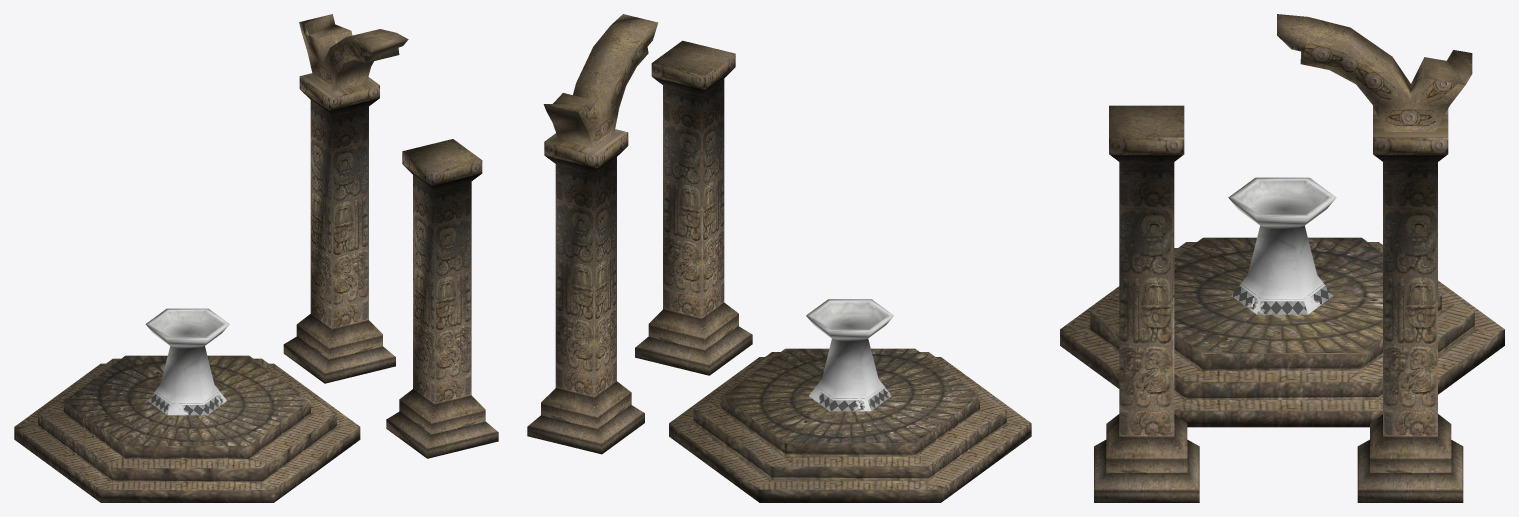
The model's file is ruin.obj.
3 views of the same model, side by side, from view 1: azimuth 30°, elevation 25°; view 2: azimuth 150°, elevation 25°; view 3: azimuth 270°, elevation 25° (orthographic). The views are drawn at different scales.
Bounding box in the file's own units: 813 × 750 × 663.
Materials: 1 (1 with a texture image).
